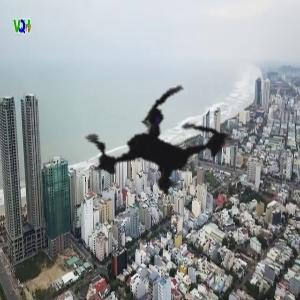drone: (29, 19, 292, 282)
